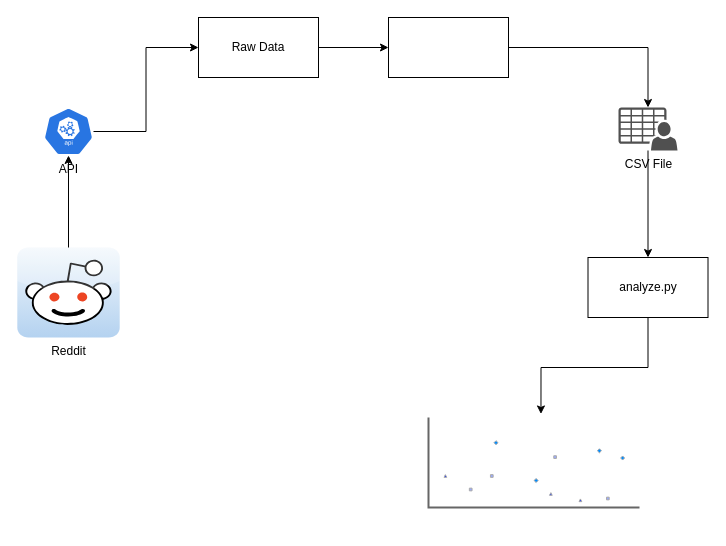
Some shapes in this 726 by 546 pixel diagram are drawn without their labels. The centre of each missing label's shape, as x and y in pixels:
"Plot" belongs at point (533, 462).
"scraper.py" belongs at point (448, 47).
